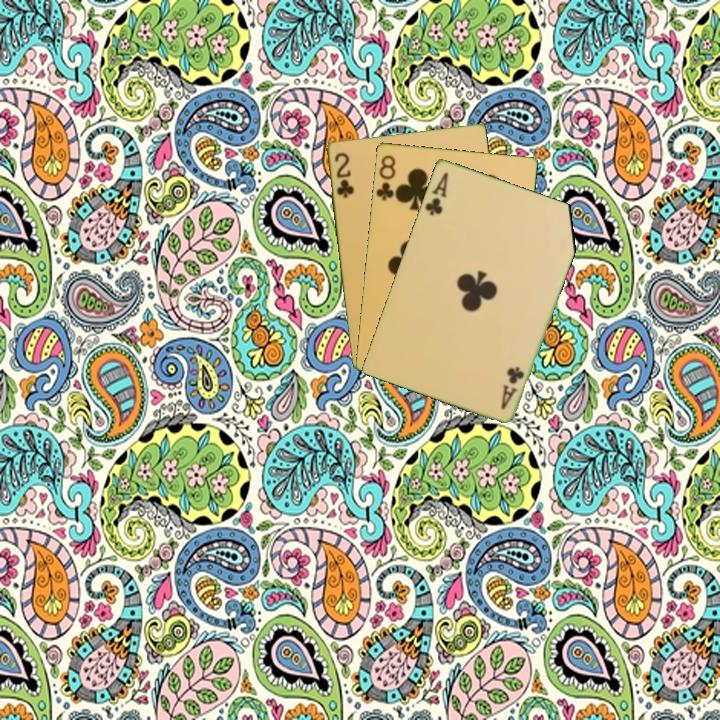2c: (331, 149, 357, 201)
8c: (373, 151, 399, 203)
Ac: (421, 168, 451, 218), (497, 363, 527, 412)
